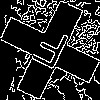F: (25, 25, 72, 79)
